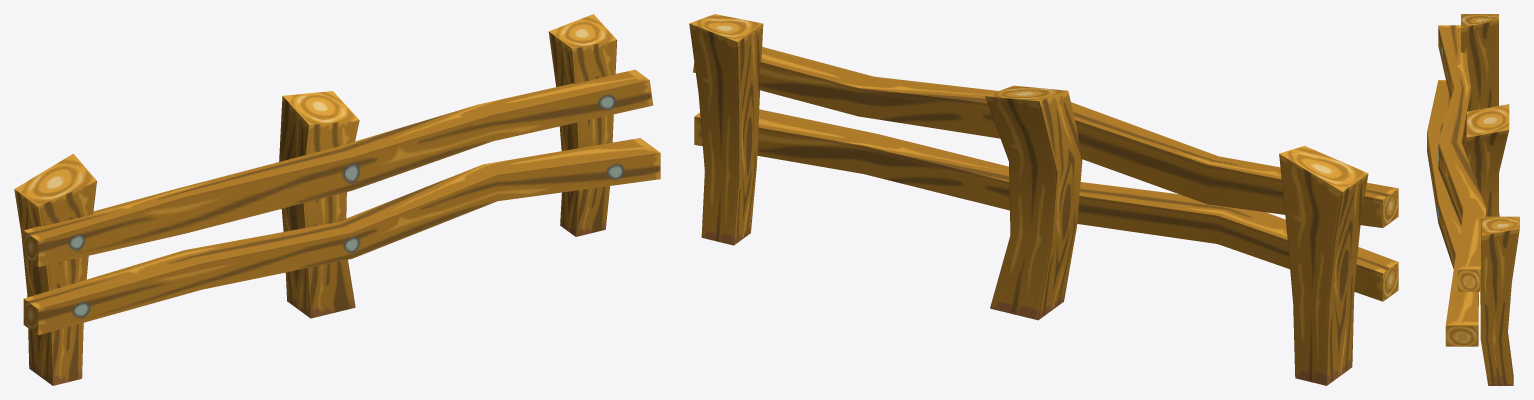
The model's file is cerca01.FBX.
3 renders of one model, left to right at view 1: azimuth 30°, elevation 25°; view 2: azimuth 150°, elevation 25°; view 3: azimuth 270°, elevation 25°, orthographic. The views are drawn at different scales.
Parts seen in each view (by area): view 1: madeira03, madeira04, poste04, poste06, poste05; view 2: madeira03, madeira04, poste04, poste06, poste05; view 3: madeira03, poste05, madeira04, poste04, poste06.
Boxes of the visible parts, box(x1,y1,x2,y2) form: madeira03: box(23, 69, 653, 267); madeira04: box(23, 138, 660, 335); poste04: box(279, 91, 359, 318); poste06: box(14, 153, 96, 385); poste05: box(548, 14, 617, 236); madeira03: box(693, 47, 1398, 227); madeira04: box(694, 109, 1398, 301); poste04: box(985, 85, 1082, 320); poste06: box(1279, 145, 1368, 385); poste05: box(689, 14, 763, 245); madeira03: box(1438, 25, 1486, 291); poste05: box(1480, 216, 1519, 385); madeira04: box(1427, 80, 1478, 346); poste04: box(1463, 104, 1509, 216); poste06: box(1461, 14, 1498, 110).
Bounding box in the file's own units: 250 × 78.05 × 39.91.
